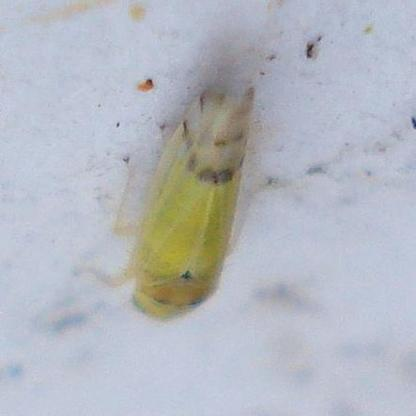green-leafhopper: (99, 78, 260, 324)
